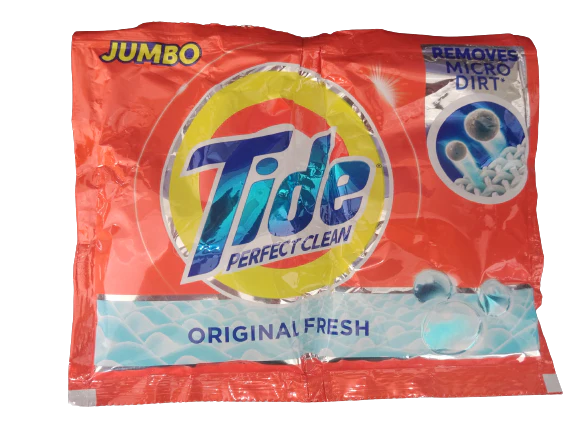toxic_waste: (69, 30, 558, 397)
